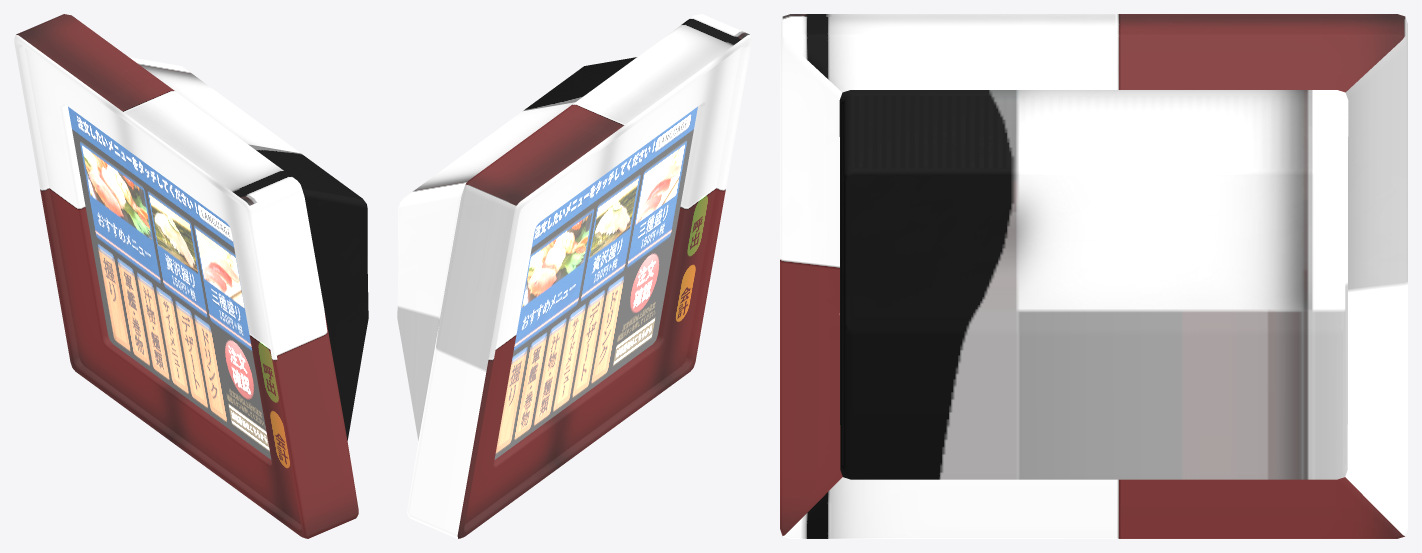
Rendered from SM_Monitor_01.fbx.
The picture shows the model from 3 angles, left to right: view 1: azimuth 30°, elevation 25°; view 2: azimuth 150°, elevation 25°; view 3: azimuth 270°, elevation 25°; orthographic projection. The views are drawn at different scales.
Parts seen in each view (by area): view 1: SM_Monitor_01_LOD0; view 2: SM_Monitor_01_LOD0; view 3: SM_Monitor_01_LOD0.
Part boxes in pixels (box(x1,y1,x2,y2)): SM_Monitor_01_LOD0: box(14, 14, 368, 538); SM_Monitor_01_LOD0: box(397, 14, 751, 538); SM_Monitor_01_LOD0: box(780, 14, 1407, 538).
Bounding box in the file's own units: 10.63 × 30 × 25.25.
